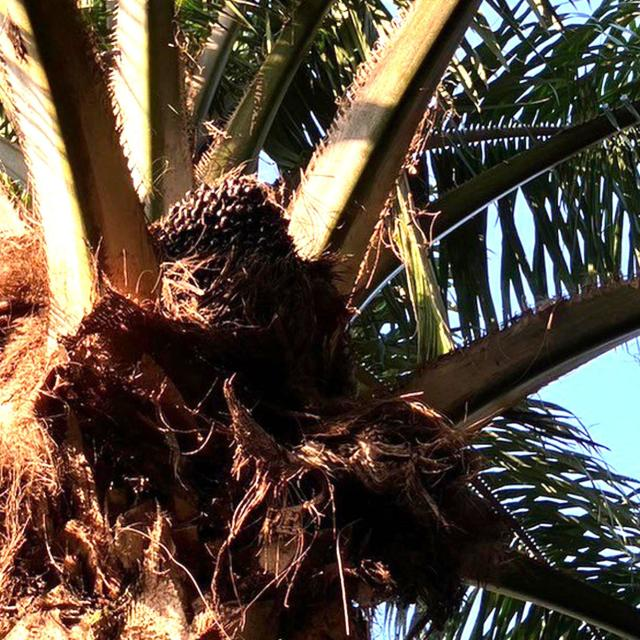almost: (152, 153, 300, 319)
